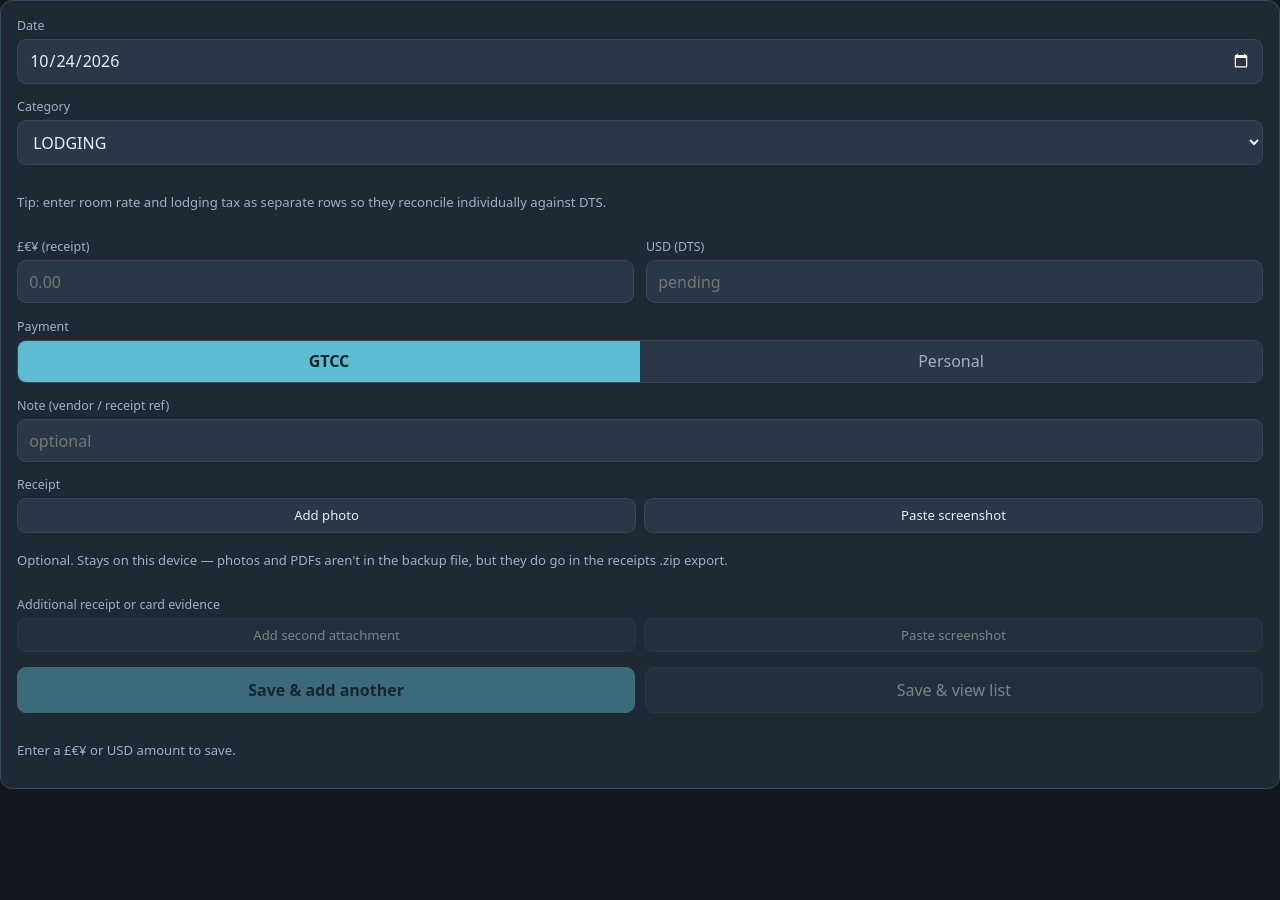
EntryForm — MILEAGE calculator › swaps the foreign-currency/USD fields for Miles/Rate when MILEAGE is selected
Select "MILEAGE" in the dropdown labelled "Category" at (640, 143), box [17,120,1263,165]
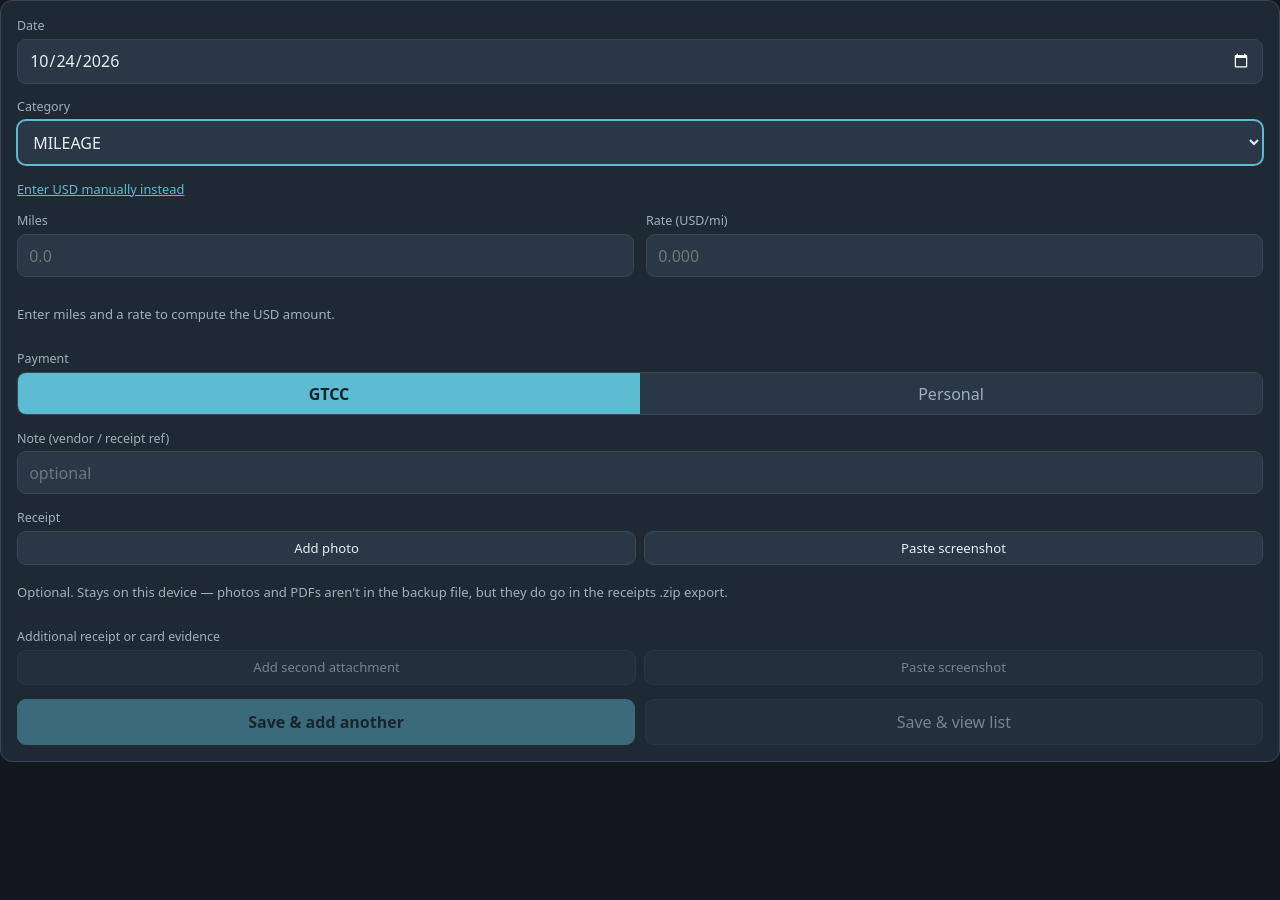
Check: the number field labelled "Miles" is shown, box [17,234,634,277]
Check: the text labelled "£€¥" is gone
Check: the text labelled "USD (DTS)" is gone
